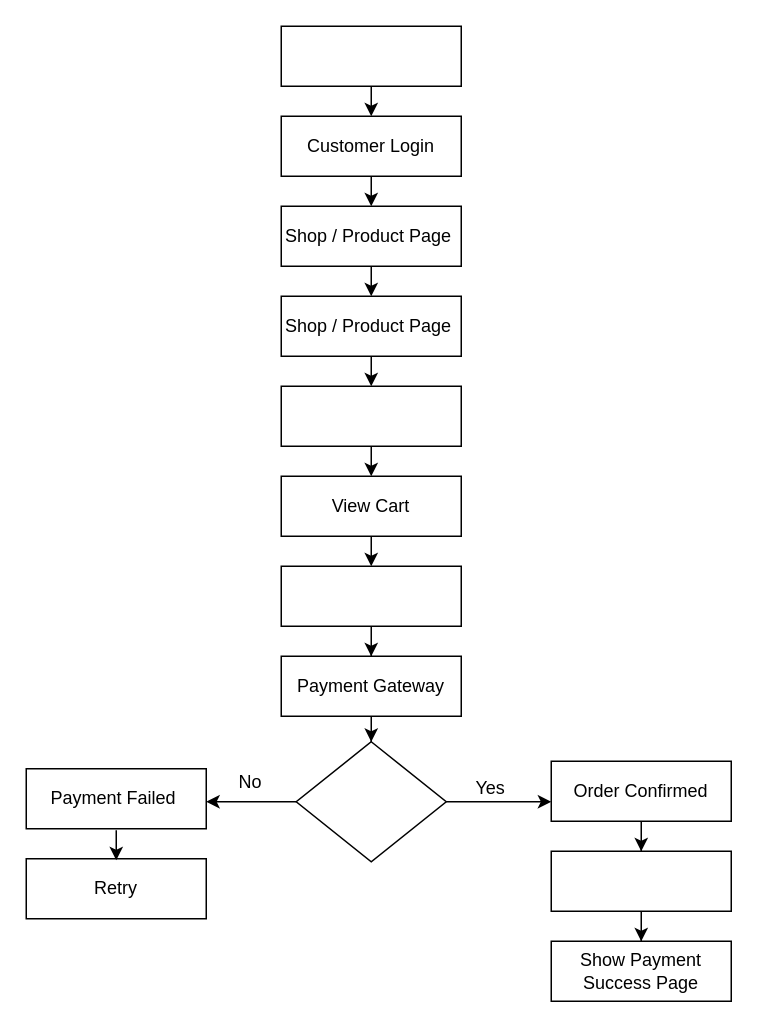
Some shapes in this 758 by 1028 pixel diagram are drawn without their labels. The box of each missing label's shape, as (x1, y1, x2, y2) in pixels:
Add to Cart: (280, 385, 461, 446)
Checkout: (280, 565, 461, 626)
Invoice Generated: (550, 850, 731, 911)
Payment Success?: (295, 740, 446, 862)
Start: (280, 25, 461, 86)
